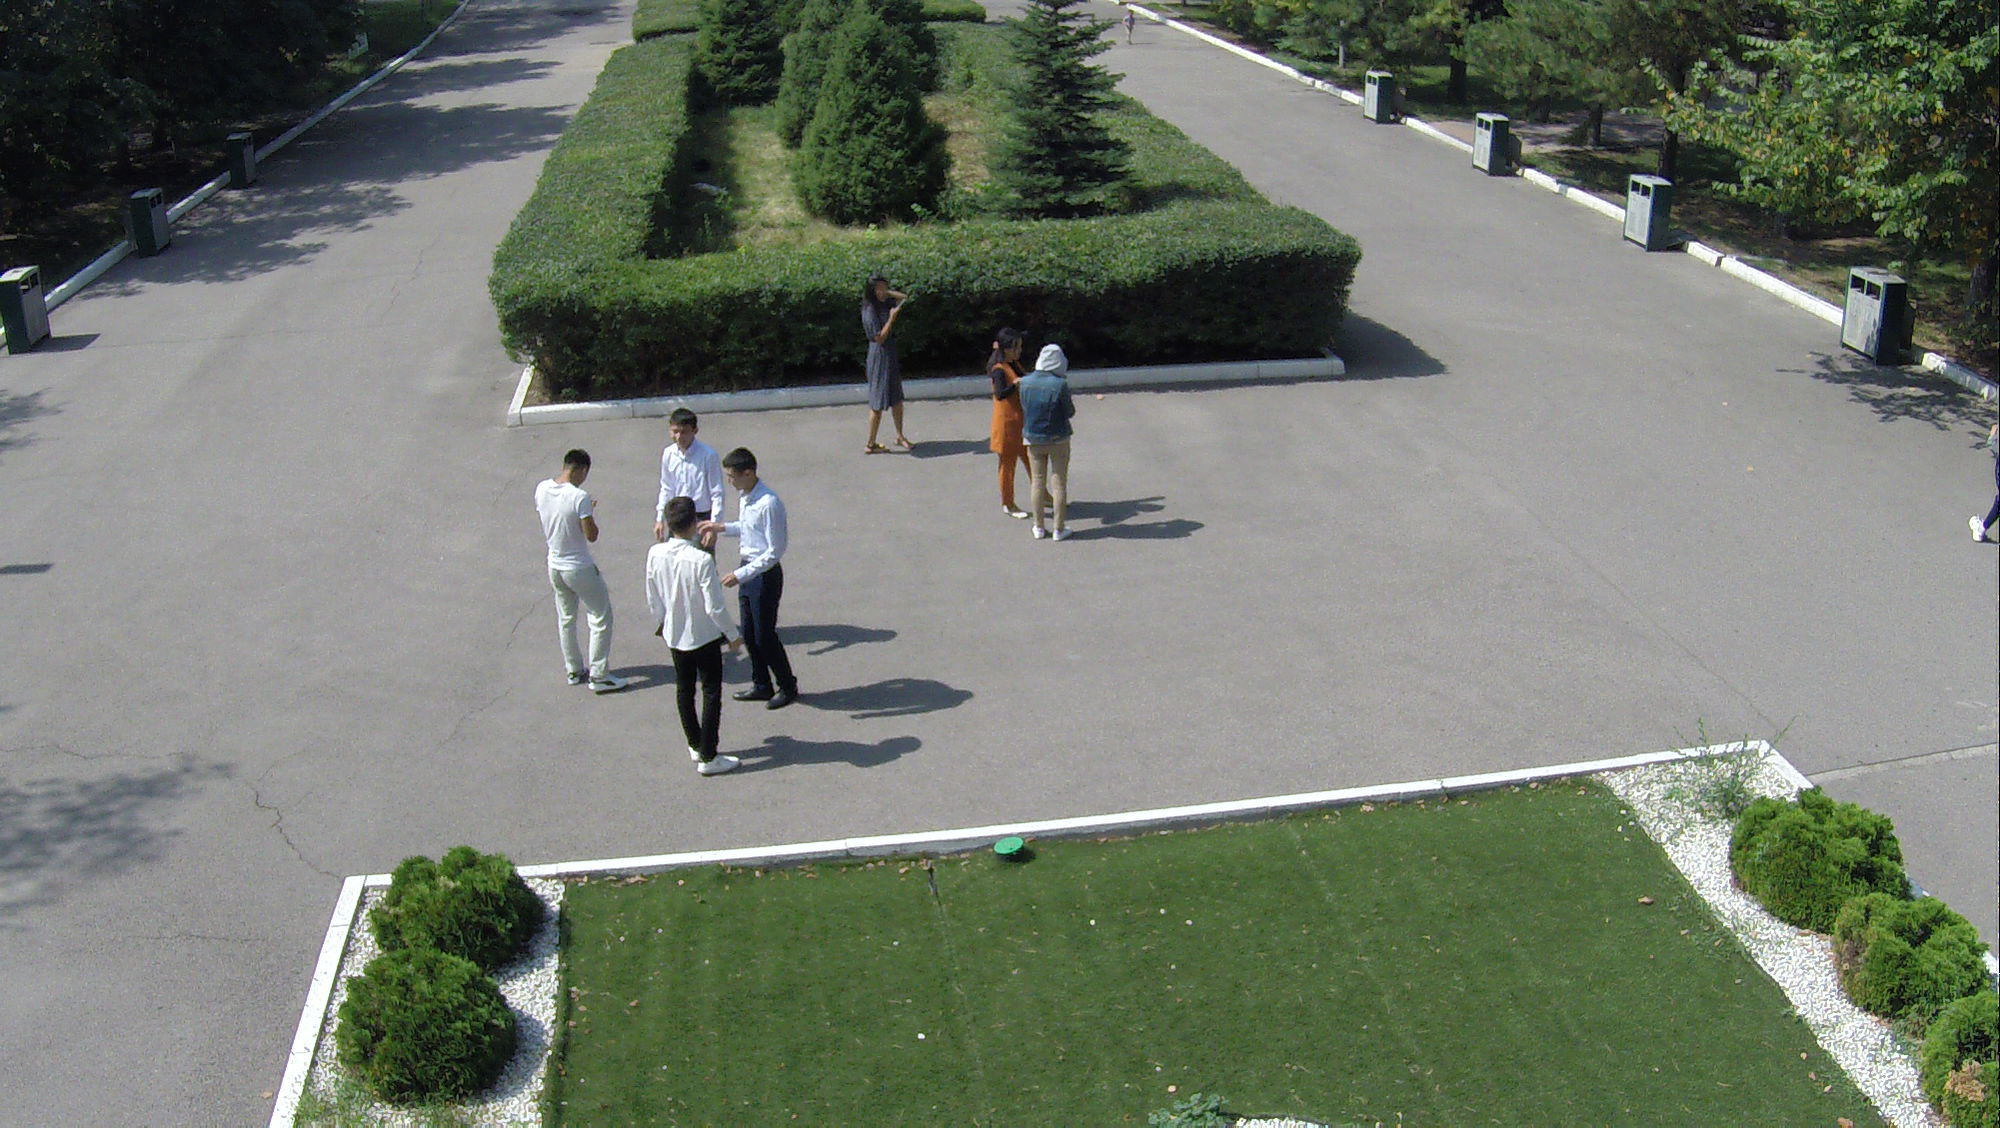person: (630, 499, 743, 778), (524, 447, 635, 697), (639, 408, 724, 633), (735, 433, 799, 726), (843, 270, 930, 458), (1018, 347, 1078, 545), (974, 339, 1035, 530)
